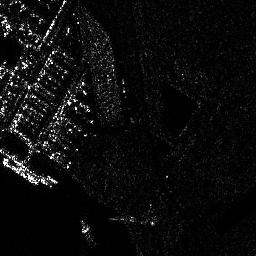ship: (2, 158, 39, 185)
